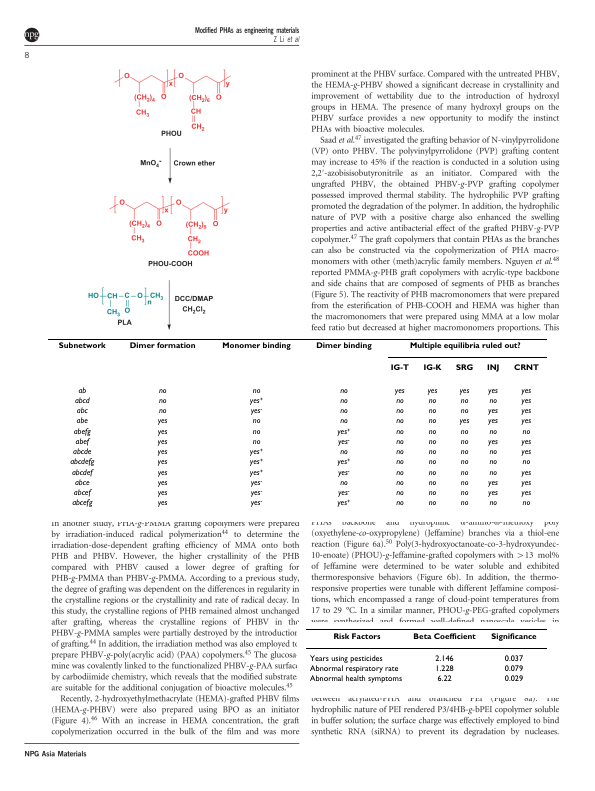borderless: (46, 337, 548, 516), (304, 627, 548, 692)
cell: (408, 342, 521, 351), (309, 674, 403, 684), (309, 664, 399, 674), (309, 654, 383, 663), (221, 342, 291, 351), (128, 342, 196, 351), (412, 632, 476, 641), (315, 342, 372, 351), (57, 342, 106, 351), (332, 632, 381, 641), (490, 632, 537, 641), (513, 364, 539, 373), (69, 458, 95, 467), (70, 468, 93, 478), (503, 664, 524, 674), (503, 674, 524, 684), (434, 664, 454, 674), (71, 499, 93, 508), (72, 427, 91, 437), (503, 654, 524, 663), (389, 364, 409, 373), (422, 364, 442, 373), (454, 364, 474, 373), (72, 448, 92, 457), (434, 654, 454, 663), (72, 489, 91, 498), (73, 396, 90, 406), (73, 478, 90, 488), (74, 437, 90, 447), (436, 674, 452, 684), (249, 396, 264, 406), (336, 427, 351, 437), (249, 468, 264, 478), (249, 478, 263, 488), (485, 364, 500, 373), (249, 448, 264, 457), (249, 458, 264, 467), (336, 458, 351, 467), (336, 499, 351, 508), (337, 437, 350, 447), (337, 468, 350, 478), (249, 407, 263, 416), (249, 489, 263, 498), (249, 499, 263, 508), (426, 386, 438, 396), (458, 386, 470, 396), (520, 386, 532, 396), (520, 396, 532, 406), (156, 427, 168, 437), (156, 437, 168, 447), (520, 437, 532, 447), (156, 468, 168, 478), (520, 468, 532, 478), (156, 478, 168, 488), (520, 478, 532, 488), (75, 407, 88, 416), (75, 417, 88, 426), (337, 489, 350, 498), (394, 386, 405, 396), (487, 386, 498, 396), (487, 437, 498, 447), (487, 478, 498, 488), (520, 407, 532, 416), (156, 417, 168, 426), (458, 417, 470, 426), (520, 417, 532, 426), (156, 448, 168, 457), (520, 448, 532, 457), (156, 458, 168, 467), (156, 489, 168, 498), (520, 489, 532, 498), (156, 499, 168, 508), (77, 386, 87, 396), (157, 386, 167, 396), (251, 386, 261, 396), (157, 396, 167, 406), (427, 396, 437, 406), (459, 396, 469, 406), (251, 427, 261, 437), (427, 427, 437, 437), (459, 427, 469, 437), (521, 427, 531, 437), (251, 437, 261, 447), (427, 437, 437, 447), (459, 437, 469, 447), (427, 468, 437, 478), (459, 468, 469, 478), (427, 478, 437, 488), (459, 478, 469, 488), (487, 407, 498, 416), (487, 417, 498, 426), (487, 489, 498, 498), (339, 386, 348, 396), (339, 396, 348, 406), (395, 396, 404, 406), (488, 396, 497, 406), (157, 407, 167, 416), (427, 407, 437, 416), (459, 407, 469, 416), (251, 417, 261, 426), (427, 417, 437, 426), (395, 427, 404, 437), (488, 427, 497, 437), (395, 437, 404, 447), (427, 448, 437, 457), (459, 448, 469, 457), (427, 458, 437, 467), (459, 458, 469, 467), (521, 458, 531, 467), (395, 468, 404, 478), (488, 468, 497, 478), (339, 478, 348, 488), (395, 478, 404, 488), (427, 489, 437, 498), (459, 489, 469, 498), (427, 499, 437, 508), (459, 499, 469, 508), (521, 499, 531, 508), (339, 407, 348, 416), (395, 407, 404, 416), (339, 417, 348, 426), (395, 417, 404, 426), (339, 448, 348, 457), (395, 448, 404, 457), (488, 448, 497, 457), (395, 458, 404, 467), (488, 458, 497, 467), (395, 489, 404, 498), (395, 499, 404, 508), (488, 499, 497, 508)
